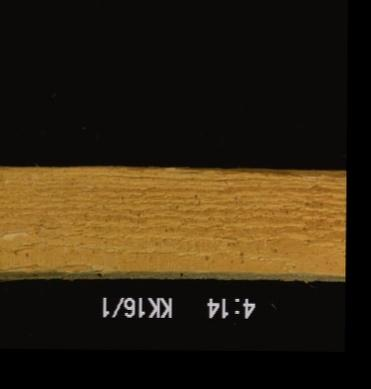wave: (215, 166, 345, 178)
